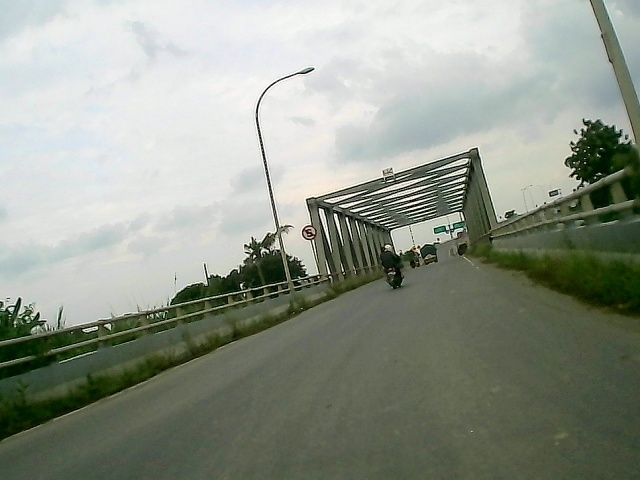Dilarang berhenti: (301, 223, 319, 243)
